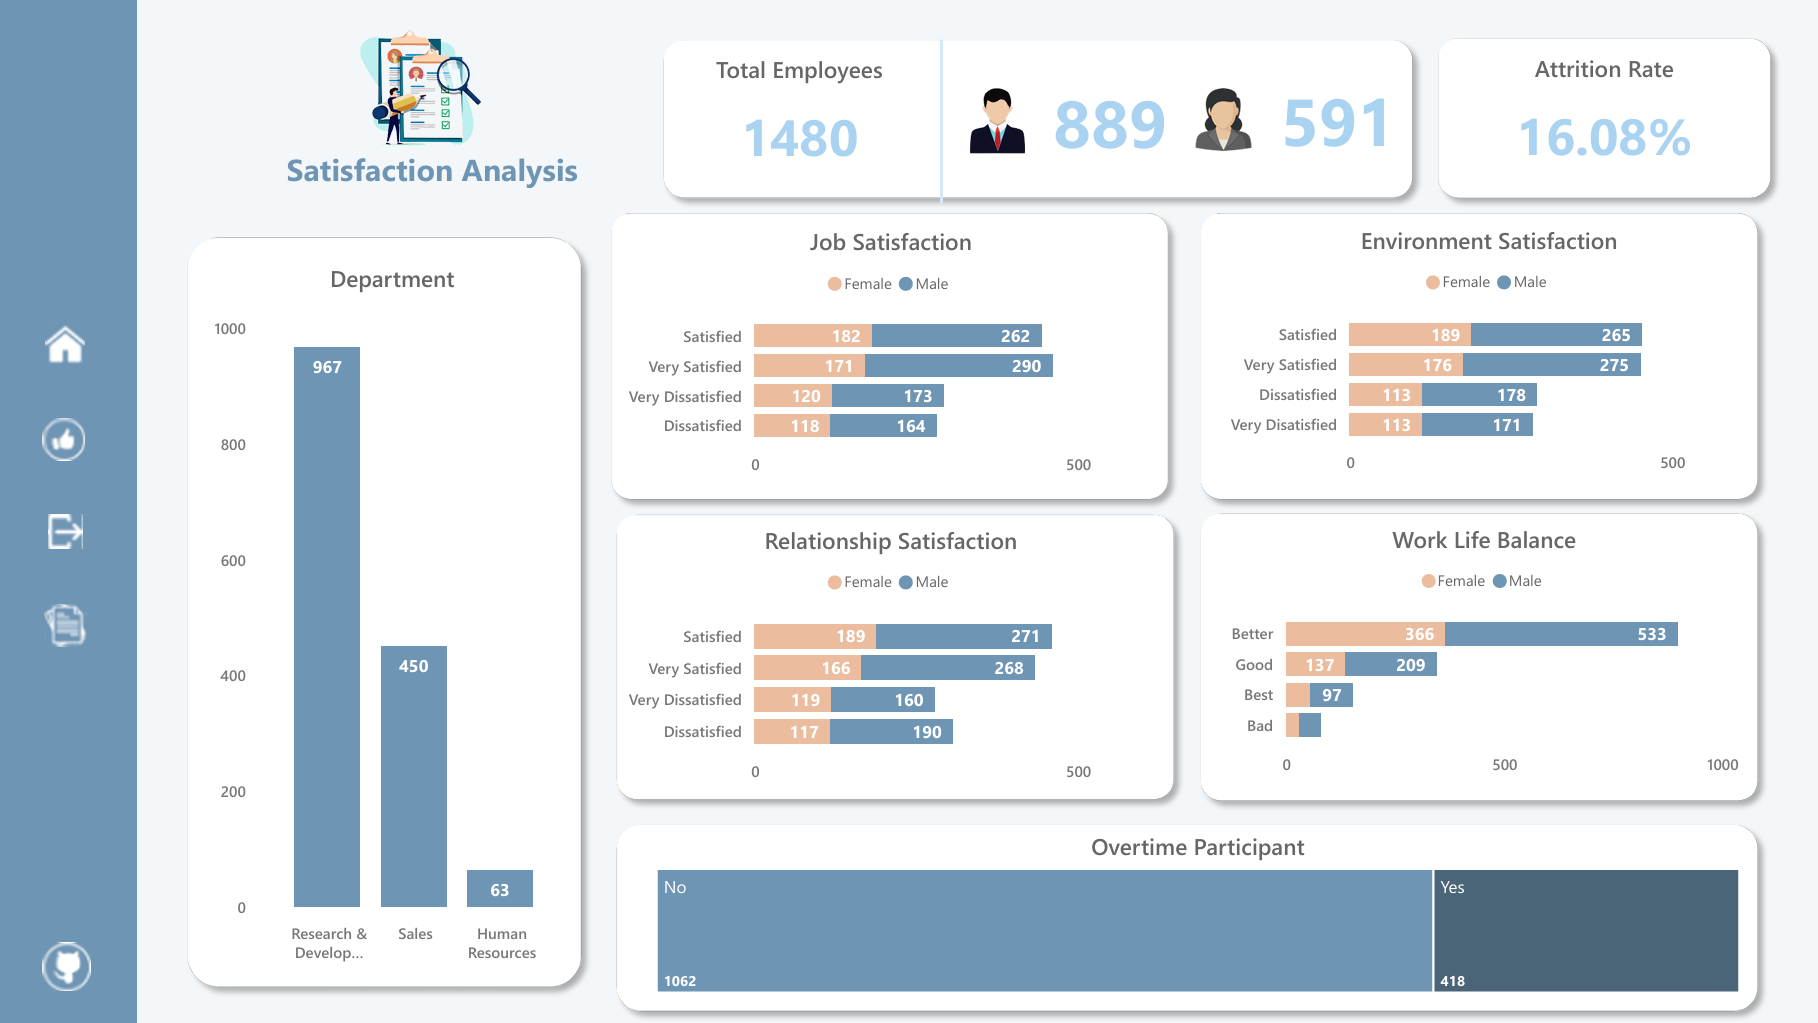

This screenshot's page, from the dashboard's own definition file:
{"tool":"powerbi","page":{"name":"Satisfaction","canvas":[1280,720],"ordinal":1},"visuals":[{"type":"shape","box":[836.2,352.3,410,219.2],"z":0},{"type":"shape","box":[425,352.5,410,218.8],"z":1000},{"type":"shape","box":[836.2,141.2,410,218.8],"z":2000},{"type":"shape","box":[425,571,821,149],"z":3000},{"type":"shape","box":[421.2,141.2,410,218.8],"z":4000},{"type":"shape","box":[458,19,545,129],"z":5000},{"type":"card","title":"Total Employees","fields":{"Values":["All Measure.Total Emp"]},"box":[474,38,177,94],"z":6000},{"type":"card","fields":{"Values":["All Measure.Female"]},"box":[851,24,181,119],"z":7000},{"type":"card","fields":{"Values":["All Measure.Male"]},"box":[702,26,158,117],"z":8000},{"type":"image","box":[667,53,69,62],"z":9000},{"type":"image","box":[831,57,59,54],"z":10000},{"type":"shape","box":[623,28,79,115],"z":11000},{"type":"shape","box":[1003,18,252,130],"z":12000},{"type":"card","title":"Attrition Rate","fields":{"Values":["All Measure.% attrition"]},"box":[1012.2,36.7,233.3,94.4],"z":13000},{"type":"shape","box":[123.3,158.3,295,545],"z":14000},{"type":"columnChart","title":"Department","fields":{"Category":["HR_Analytics.Department"],"Y":["All Measure.Total Emp"]},"box":[145,185,261.7,500],"z":15000},{"type":"barChart","title":"Job Satisfaction","fields":{"Y":["All Measure.Female","All Measure.Male"],"Category":["HR_Analytics.Job Satisfaction status"]},"box":[436.2,158.8,381.2,185],"z":16000},{"type":"barChart","title":"Work Life Balance","fields":{"Category":["HR_Analytics.Work Life Balance Status"],"Y":["All Measure.Female","All Measure.Male"]},"box":[860,368.5,369.2,186.2],"z":17000},{"type":"textbox","title":"Satisfaction Analysis","box":[188.6,104.3,230,37.1],"z":18000},{"type":"image","box":[233,0,123,125],"z":19000},{"type":"barChart","title":"Relationship Satisfaction","fields":{"Y":["All Measure.Female","All Measure.Male"],"Category":["HR_Analytics.Relationship Satisfaction"]},"box":[436.2,368.8,381.2,191.2],"z":20000},{"type":"barChart","title":"Environment Satisfaction","fields":{"Y":["All Measure.Female","All Measure.Male"],"Category":["HR_Analytics.Environment Satisfaction"]},"box":[860,157.5,376.2,185],"z":21000},{"type":"treemap","title":"Overtime Participant","fields":{"Values":["All Measure.Total Emp"],"Group":["HR_Analytics.OverTime"]},"box":[457.1,584.3,771.4,118.6],"z":22000},{"type":"shape","box":[0,0,95.7,720],"z":23000},{"type":"actionButton","box":[27.8,224.4,43.3,35.6],"z":24000},{"type":"actionButton","box":[30,355,31.7,38.3],"z":25000},{"type":"actionButton","box":[25.6,290,43.3,37.8],"z":26000},{"type":"actionButton","box":[26.7,421.1,44.4,37.8],"z":27000},{"type":"actionButton","box":[25.7,658.6,48.6,42.9],"z":28000}]}

Visuals, with their boxes on the page's 1280x720 design canvas (x1, y1, x2, y2). These are canvas units, not pixel positions in the 1818x1023 screenshot, which may show the page scaled, cropped or inside an application window:
shape: x1=836 y1=352 x2=1246 y2=572
shape: x1=425 y1=352 x2=835 y2=571
shape: x1=836 y1=141 x2=1246 y2=360
shape: x1=425 y1=571 x2=1246 y2=720
shape: x1=421 y1=141 x2=831 y2=360
shape: x1=458 y1=19 x2=1003 y2=148
"Total Employees" card: x1=474 y1=38 x2=651 y2=132
card - All Measure.Female: x1=851 y1=24 x2=1032 y2=143
card - All Measure.Male: x1=702 y1=26 x2=860 y2=143
image: x1=667 y1=53 x2=736 y2=115
image: x1=831 y1=57 x2=890 y2=111
shape: x1=623 y1=28 x2=702 y2=143
shape: x1=1003 y1=18 x2=1255 y2=148
"Attrition Rate" card: x1=1012 y1=37 x2=1246 y2=131
shape: x1=123 y1=158 x2=418 y2=703
"Department" columnChart: x1=145 y1=185 x2=407 y2=685
"Job Satisfaction" barChart: x1=436 y1=159 x2=817 y2=344
"Work Life Balance" barChart: x1=860 y1=368 x2=1229 y2=555
"Satisfaction Analysis" textbox: x1=189 y1=104 x2=419 y2=141
image: x1=233 y1=0 x2=356 y2=125
"Relationship Satisfaction" barChart: x1=436 y1=369 x2=817 y2=560
"Environment Satisfaction" barChart: x1=860 y1=158 x2=1236 y2=342
"Overtime Participant" treemap: x1=457 y1=584 x2=1228 y2=703
shape: x1=0 y1=0 x2=96 y2=720
actionButton: x1=28 y1=224 x2=71 y2=260
actionButton: x1=30 y1=355 x2=62 y2=393
actionButton: x1=26 y1=290 x2=69 y2=328
actionButton: x1=27 y1=421 x2=71 y2=459
actionButton: x1=26 y1=659 x2=74 y2=702
